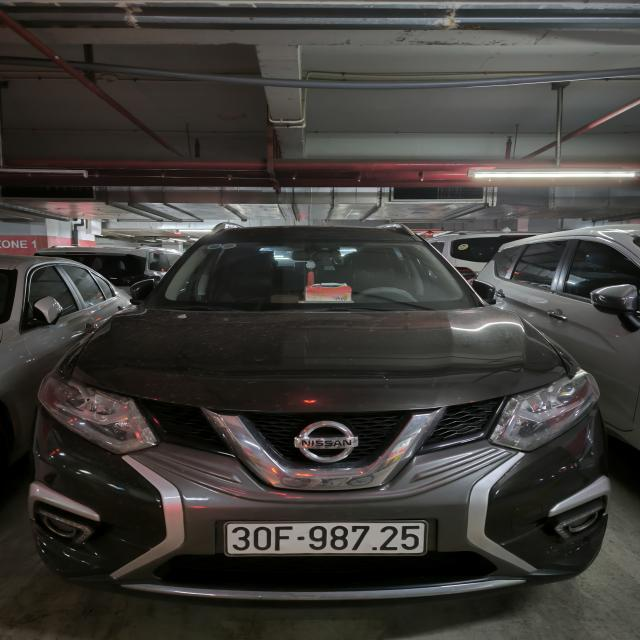license: (222, 519, 429, 557)
